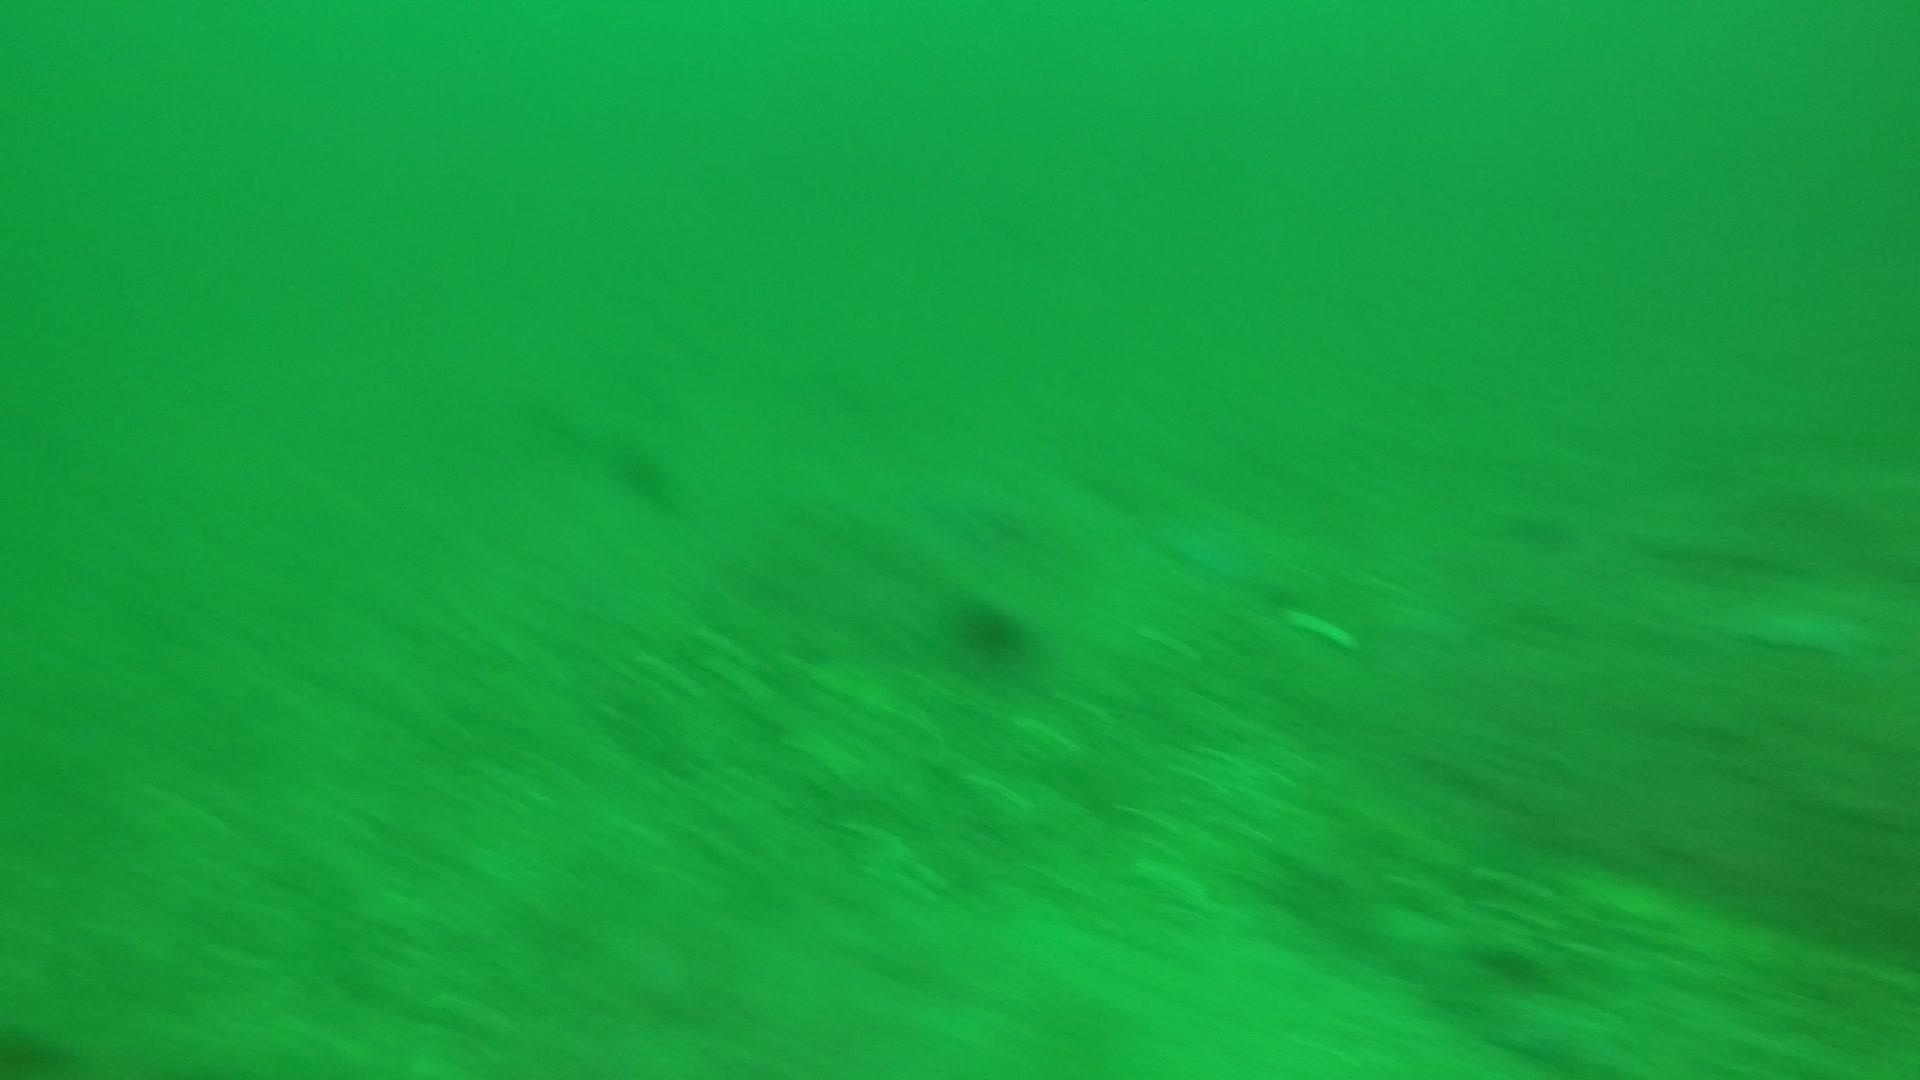echinus: (945, 591, 1038, 669), (605, 433, 680, 506), (1, 1015, 76, 1076)
